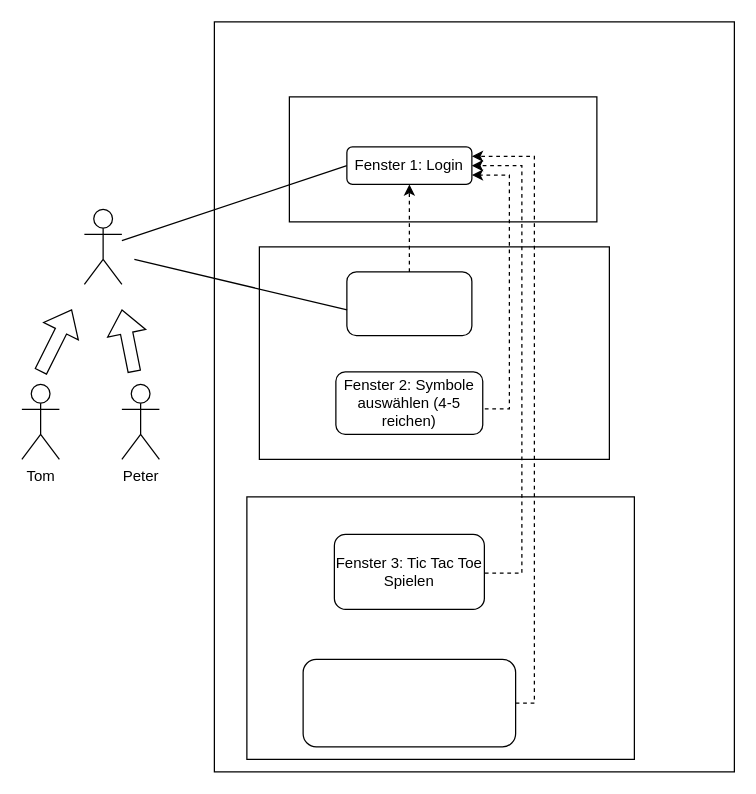
This 756x794 diagram has some shape labels left out. Each missing label, with the centre of its shape:
Computerbediener: the point at 102,246
Fenster 2: Spielernamen erfassen Fenster: the point at 409,303
Fenster 3: Nachricht (Tom hat gewonnen/unendschieden) (nochmal spielen?): the point at 409,702
